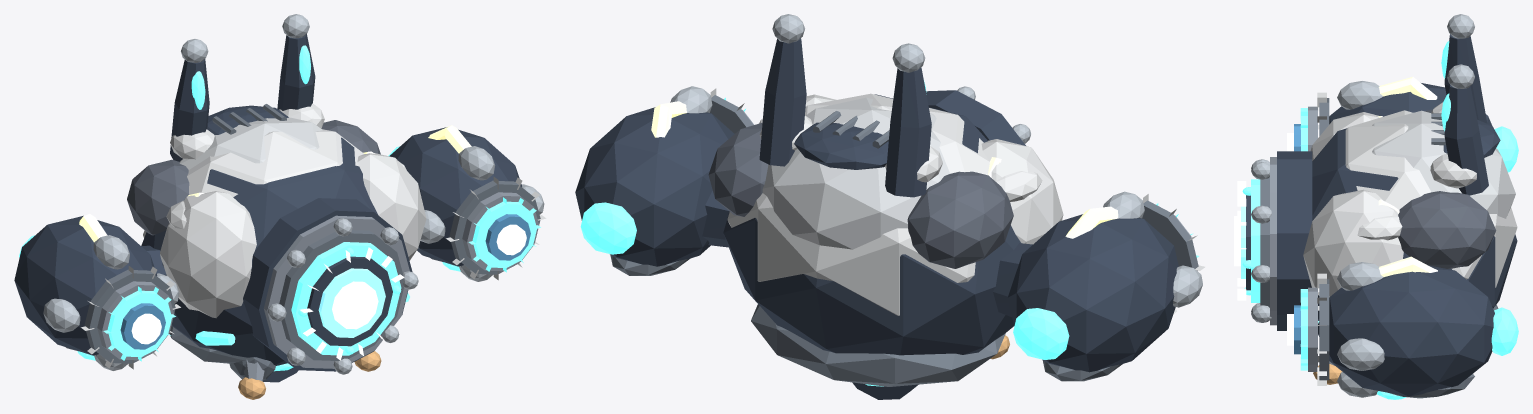
File: aux9.glb
The picture shows the model from 3 angles, left to right: view 1: azimuth 30°, elevation 25°; view 2: azimuth 150°, elevation 25°; view 3: azimuth 270°, elevation 25°; orthographic projection. The views are drawn at different scales.
Visible parts, largest first — view 1: AUX_hull_pressure_sphere, shoulder_ceramic_-1, pod_main_hull_-1, pod_main_hull_1, front_reactor_64, AUX_ceramic_superstructure, shoulder_ceramic_1, front_reactor_60, front_reactor_44, shoulder_black_shroud_-1, front_reactor_51, AUX_raised_dorsal_armor (+31 smaller); view 2: AUX_hull_pressure_sphere, pod_main_hull_-1, pod_main_hull_1, AUX_ceramic_superstructure, AUX_raised_dorsal_armor, shoulder_black_shroud_-1, AUX_ventral_armor, comms_tower_-1, comms_tower_1, shoulder_ceramic_-1, shoulder_black_shroud_1, rear_dorsal_black_rib (+19 smaller); view 3: pod_main_hull_1, shoulder_black_shroud_1, shoulder_ceramic_1, front_reactor_64, AUX_ceramic_superstructure, AUX_raised_dorsal_armor, AUX_hull_pressure_sphere, comms_tower_1, pod_main_hull_-1, comms_tower_-1, pod_1_armor_tab_1, front_reactor_60 (+31 smaller).
Boxes of the visible parts, x1,y1,x2,y2 form: AUX_hull_pressure_sphere: (141,137,378,365); shoulder_ceramic_-1: (160,191,256,318); pod_main_hull_-1: (14,215,157,355); pod_main_hull_1: (389,127,521,266); front_reactor_64: (243,198,412,371); AUX_ceramic_superstructure: (143,129,363,237); shoulder_ceramic_1: (357,153,426,260); front_reactor_60: (264,215,409,368); front_reactor_44: (291,242,401,355); shoulder_black_shroud_-1: (127,159,189,235); front_reactor_51: (279,230,403,360); AUX_raised_dorsal_armor: (179,117,322,169); AUX_hull_pressure_sphere: (723,94,1021,355); pod_main_hull_-1: (1007,214,1178,372); pod_main_hull_1: (575,107,734,266); AUX_ceramic_superstructure: (727,93,989,315); AUX_raised_dorsal_armor: (762,97,949,249); shoulder_black_shroud_-1: (907,171,1013,268); AUX_ventral_armor: (751,304,1005,386); comms_tower_-1: (885,67,931,197); comms_tower_1: (759,38,806,166); shoulder_ceramic_-1: (981,139,1063,244); shoulder_black_shroud_1: (708,122,768,216); rear_dorsal_black_rib: (794,122,888,169); pod_main_hull_1: (1318,265,1494,396); shoulder_black_shroud_1: (1398,191,1496,268); shoulder_ceramic_1: (1303,189,1403,297); front_reactor_64: (1277,151,1312,330); AUX_ceramic_superstructure: (1345,110,1517,287); AUX_raised_dorsal_armor: (1372,110,1515,218); AUX_hull_pressure_sphere: (1310,128,1517,320); comms_tower_1: (1444,84,1488,195); pod_main_hull_-1: (1329,83,1492,125); comms_tower_-1: (1444,34,1487,123); pod_1_armor_tab_1: (1337,338,1384,370); front_reactor_60: (1270,157,1276,325).
Bounding box in the file's own units: 4.1 × 2.63 × 2.02.
